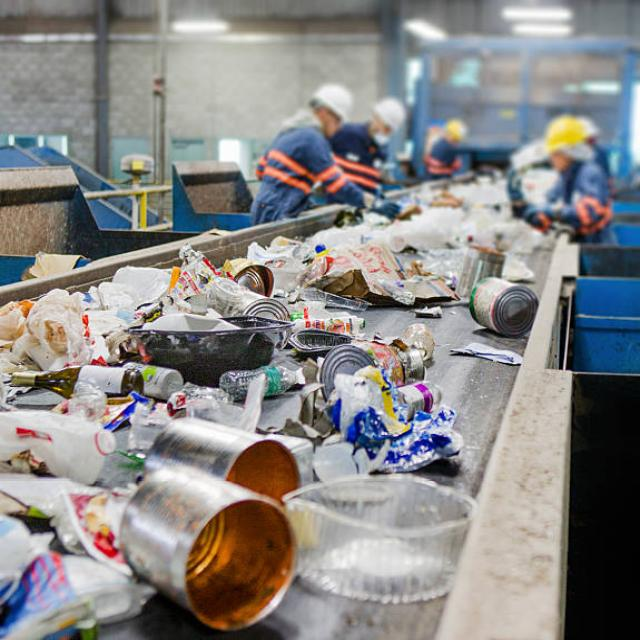metal: (137, 431, 305, 615)
trash: (45, 268, 312, 408), (286, 184, 506, 319), (329, 341, 426, 467)
